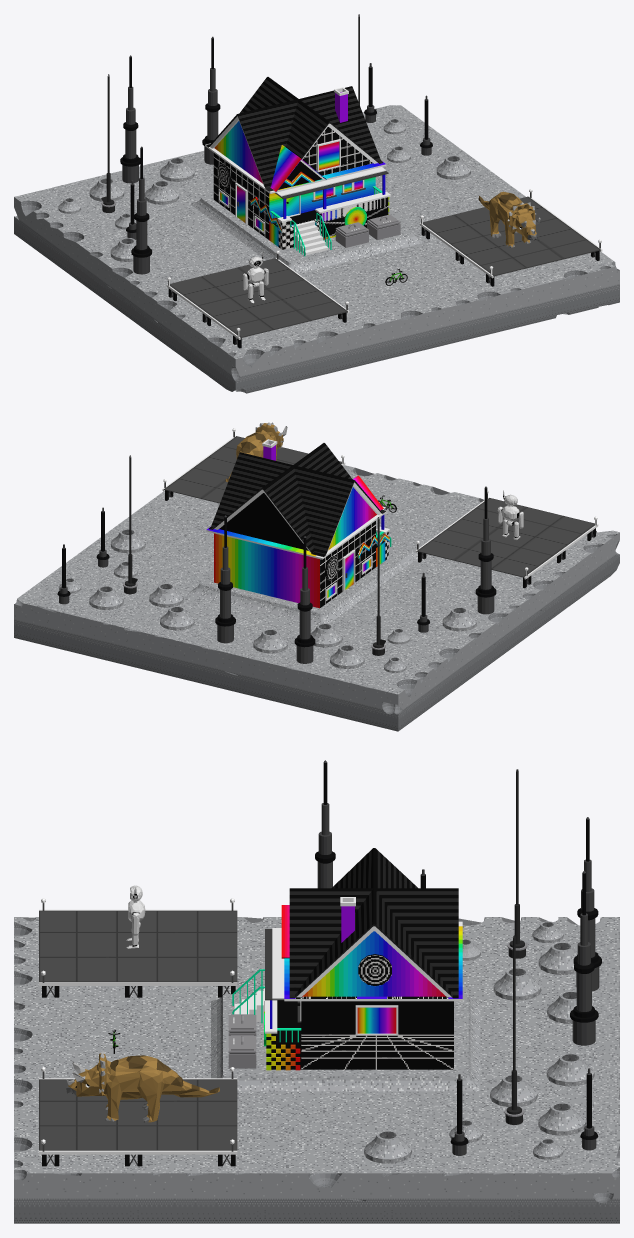
3 renders of one model, top to bottom at view 1: azimuth 30°, elevation 25°; view 2: azimuth 150°, elevation 25°; view 3: azimuth 270°, elevation 25°, orthographic. The views are drawn at different scales.
Parts seen in each view (by area): view 1: Cube.027, Cube.1320, Cube.025, Cube.026, Cube.028, ANIMAL_Triceratops, Cylinder.021, Cylinder.020, Cylinder.017, OBJRANDOM_PLATZEEBOT, Cube.029, Cube.030 (+5 smaller); view 2: Cube.027, Cube.1320, Cube.025, Cube.028, Cube.026, Cylinder.021, Cylinder.020, Cylinder.017, ANIMAL_Triceratops, OBJRANDOM_PLATZEEBOT, Cylinder.029, Cylinder.030 (+8 smaller); view 3: Cube.027, Cube.1320, Cube.025, Cube.026, Cube.028, ANIMAL_Triceratops, Cylinder.017, Cylinder.021, Cylinder.020, Cylinder.033, Cylinder.031, Cylinder.029 (+11 smaller).
Boxes of the visible parts, x1,y1,x2,y2 form: Cube.027: (14,105,619,393); Cube.1320: (205,77,390,256); Cube.025: (166,250,349,348); Cube.026: (419,189,602,286); Cube.028: (191,194,423,273); ANIMAL_Triceratops: (478,191,540,247); Cylinder.021: (131,146,151,274); Cylinder.020: (120,55,140,183); Cylinder.017: (202,36,220,164); OBJRANDOM_PLATZEEBOT: (242,252,268,303); Cube.029: (335,222,368,247); Cube.030: (367,214,400,240); Cube.027: (14,465,619,731); Cube.1320: (206,439,391,608); Cube.025: (415,490,598,588); Cube.028: (189,543,417,624); Cube.026: (162,428,345,503); Cylinder.021: (475,486,496,614); Cylinder.020: (294,536,315,663); Cylinder.017: (215,515,235,643); ANIMAL_Triceratops: (225,422,287,482); OBJRANDOM_PLATZEEBOT: (497,490,523,539); Cylinder.029: (160,606,194,630); Cylinder.030: (149,583,183,607); Cube.027: (14,917,619,1223); Cube.1320: (232,848,462,1070); Cube.025: (39,898,237,997); Cube.026: (39,1067,237,1166); Cube.028: (211,994,480,1091); ANIMAL_Triceratops: (65,1051,219,1122); Cylinder.017: (570,870,598,1045); Cylinder.021: (315,760,335,888); Cylinder.020: (573,817,601,991); Cylinder.033: (364,1130,411,1163); Cylinder.031: (538,1102,585,1135); Cylinder.029: (546,1053,594,1086).
Bounding box in the file's own units: 4000 × 1799 × 4000.
Materials: 32 (6 with a texture image).
